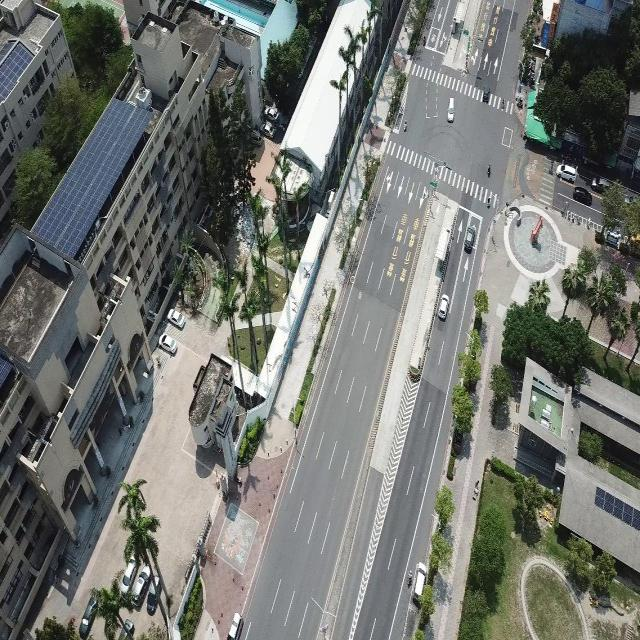car: (77, 592, 99, 640), (227, 607, 246, 640), (415, 556, 427, 607), (158, 330, 178, 357), (167, 306, 187, 330), (572, 185, 594, 206), (463, 223, 477, 255), (556, 162, 576, 182), (445, 96, 457, 126), (437, 294, 449, 321), (481, 83, 492, 104)
